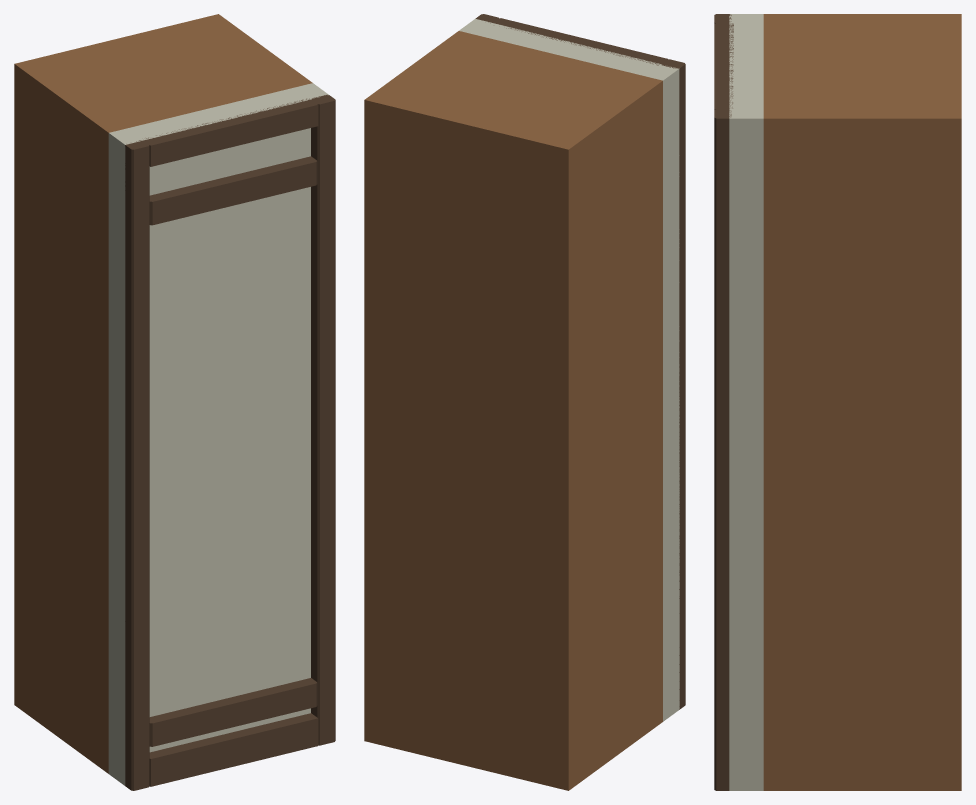
The model's file is wall_shop_a.glb.
3 renders of one model, left to right at view 1: azimuth 30°, elevation 25°; view 2: azimuth 150°, elevation 25°; view 3: azimuth 270°, elevation 25°, orthographic. The views are drawn at different scales.
Parts seen in each view (by area): view 1: face_front, geometry; view 2: geometry, face_front; view 3: geometry, face_front.
Part boxes in pixels (left/top/right/bottom): face_front: left=108, top=83, right=335, bottom=790; geometry: left=14, top=14, right=312, bottom=773; geometry: left=364, top=31, right=662, bottom=790; face_front: left=459, top=14, right=685, bottom=721; geometry: left=763, top=14, right=961, bottom=790; face_front: left=714, top=14, right=763, bottom=790.
Bounding box in the file's own units: 1 × 3 × 1.
